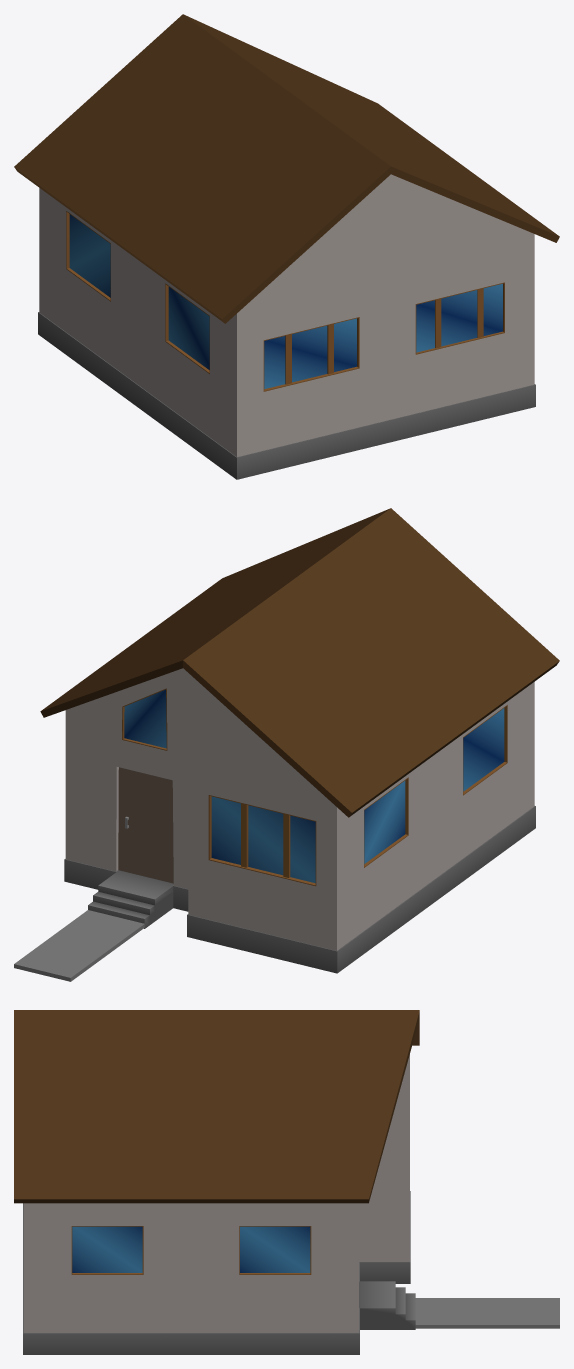
File: cottage_2.fbx
3 renders of one model, top to bottom at view 1: azimuth 30°, elevation 25°; view 2: azimuth 150°, elevation 25°; view 3: azimuth 270°, elevation 25°, orthographic. The views are drawn at different scales.
Parts seen in each view (by area): view 1: cottage_2; view 2: cottage_2; view 3: cottage_2.
Part boxes in pixels (<box>): cottage_2: <box>14,14,559,479</box>; cottage_2: <box>14,508,559,981</box>; cottage_2: <box>14,1010,559,1354</box>.
Bounding box in the file's own units: 8.99 × 12.9 × 7.13.
